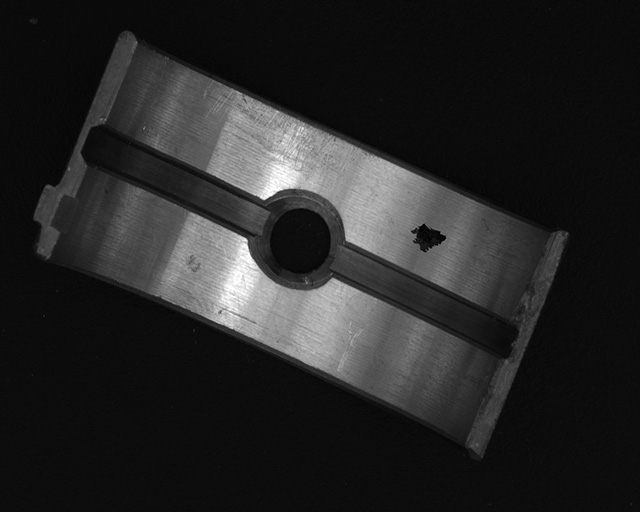blot: (409, 222, 448, 254)
bruise: (185, 254, 204, 275)
gap: (334, 244, 517, 357), (84, 126, 267, 232)
hole: (256, 190, 339, 287)
nick: (337, 316, 372, 373)
scratch: (206, 78, 358, 179)
